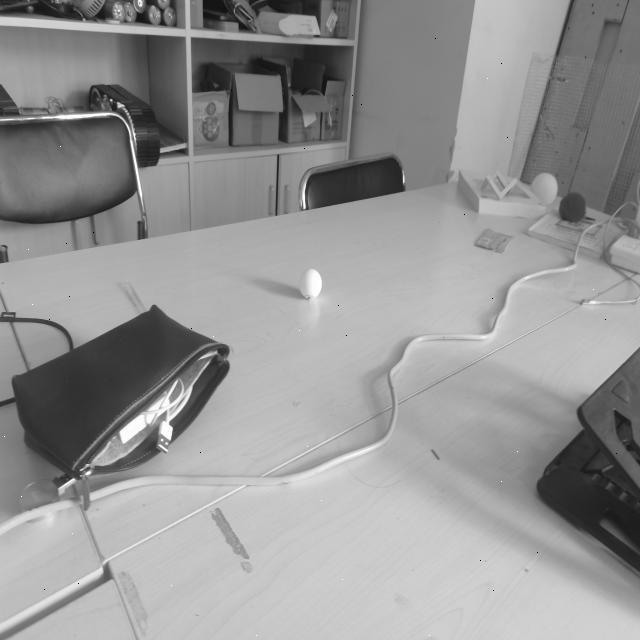ping-pong-ball: (298, 268, 322, 299)
